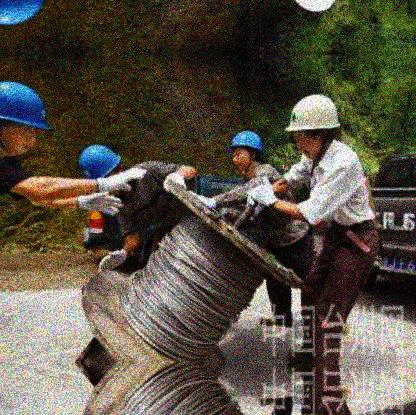helmet: (1, 81, 52, 152), (287, 94, 341, 155), (228, 130, 263, 171)
